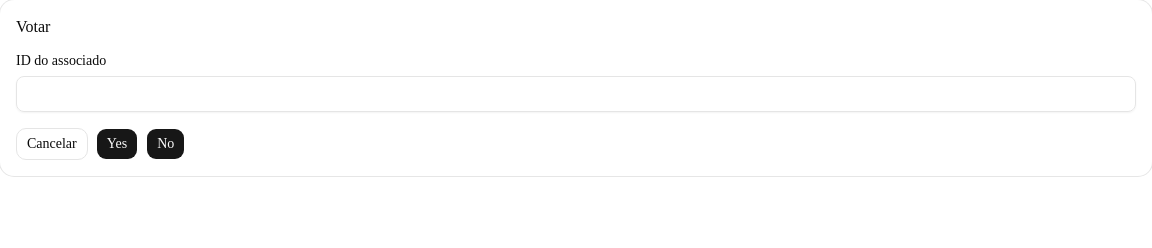
it: FormScreen › shows the error message when the submission fails
Click the button "Yes".
click(117, 144)  # box [96,128,138,160]
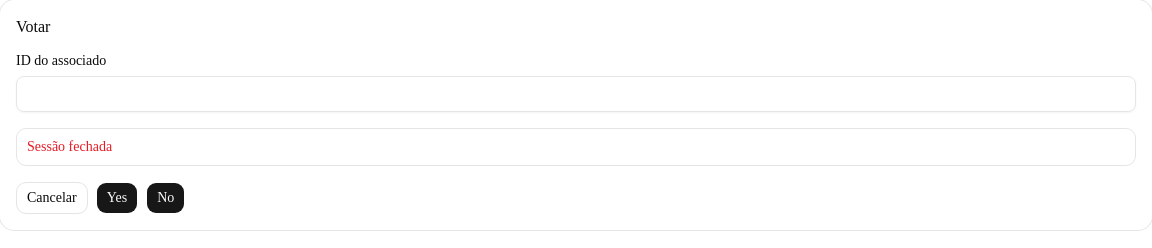
Result: the text "Sessão fechada" is shown at [27,139,112,154]
